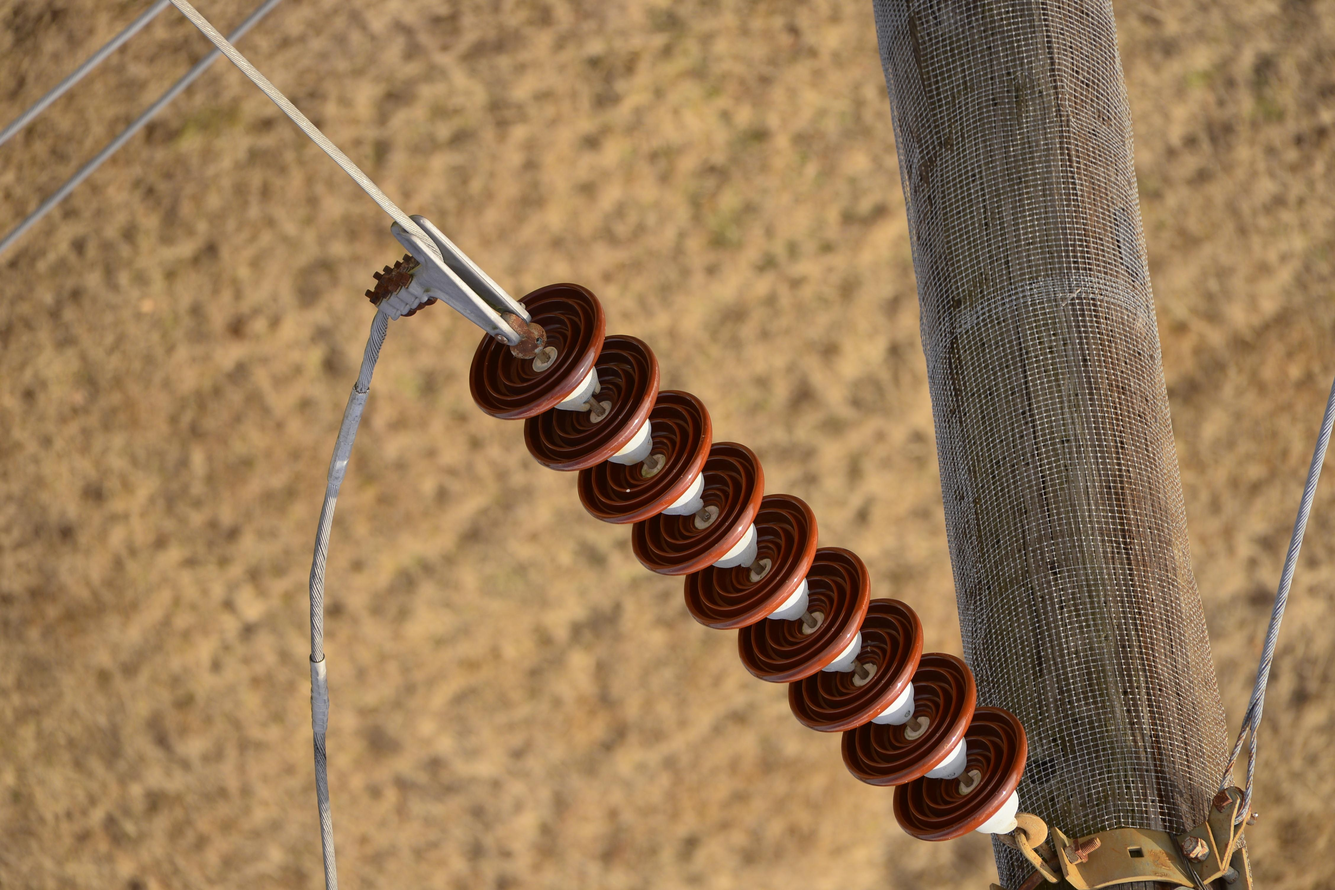insulator: (468, 283, 1028, 839)
